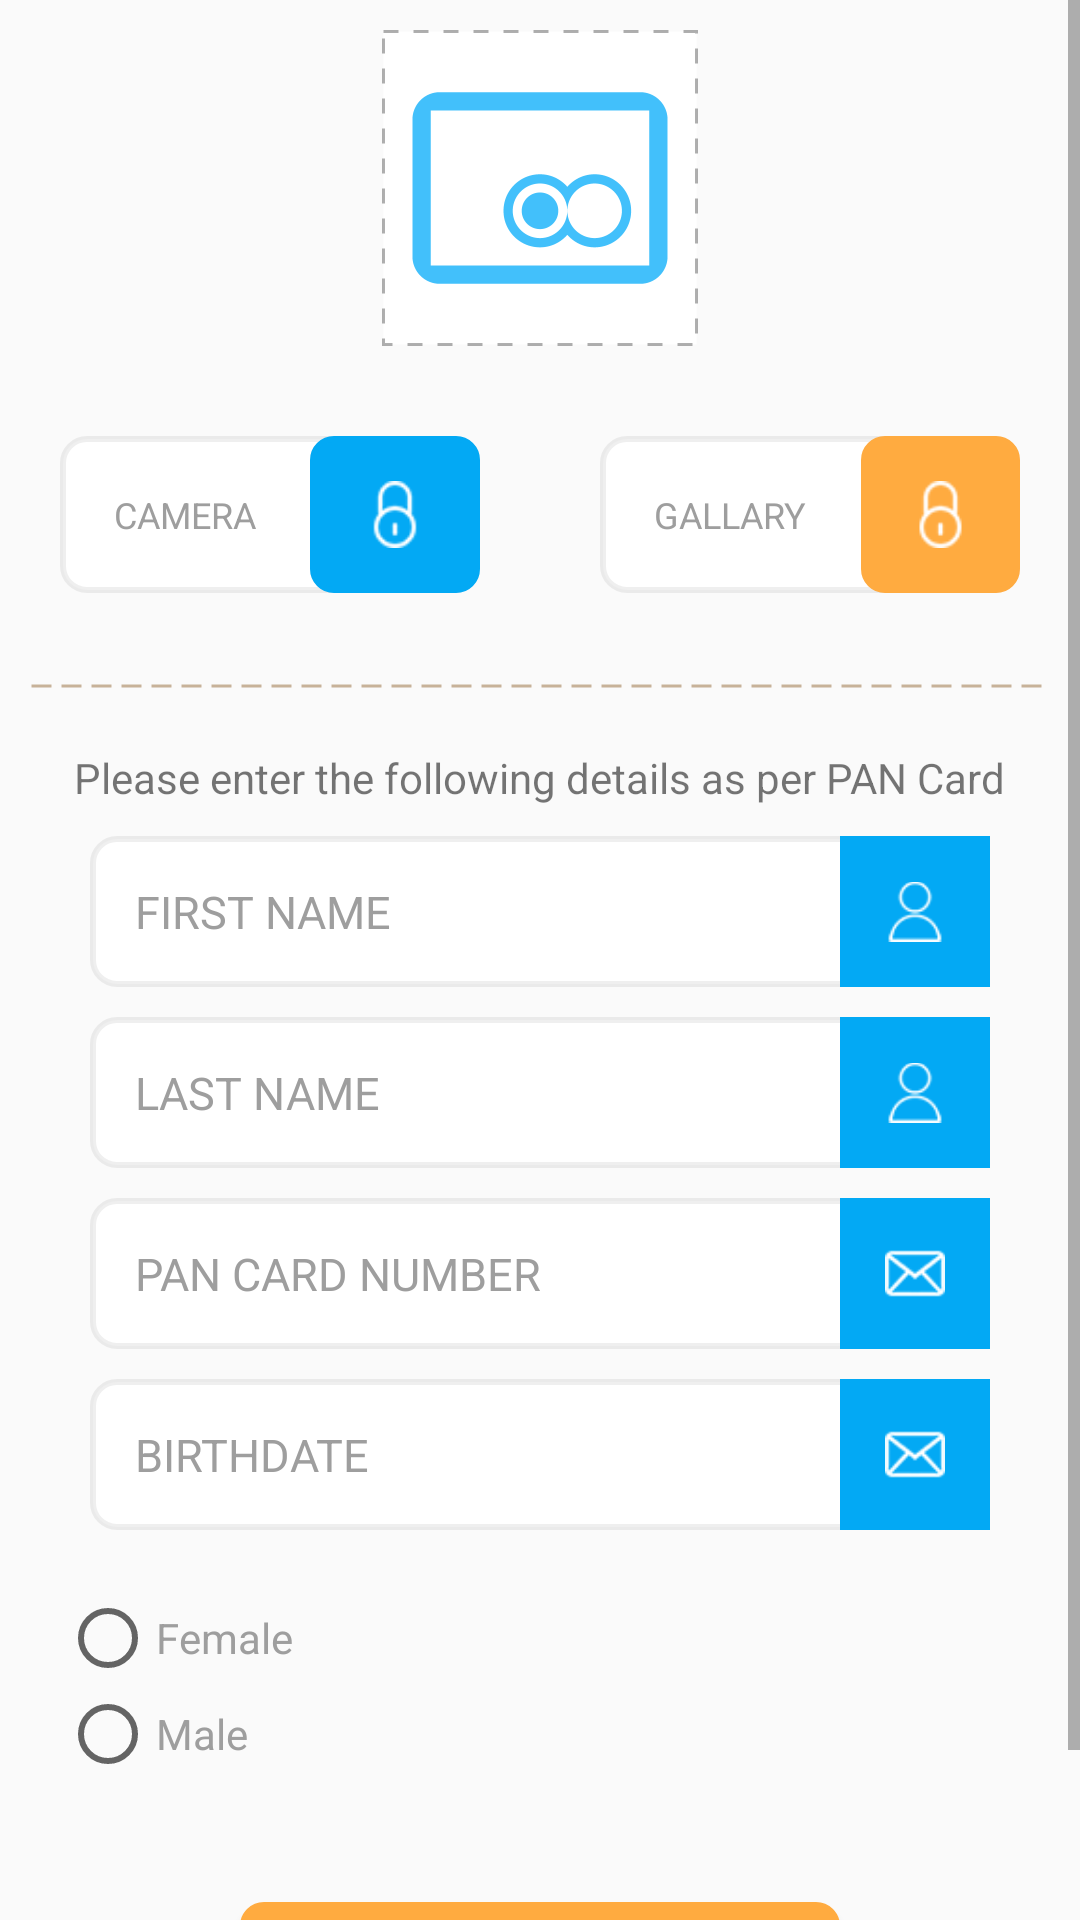

Locate icon controls on the screen. Image size 1080 × 1920, boxes as [left=x1, top=y1, right=x2, bottom=y2].
card: [left=382, top=30, right=698, bottom=346]
email: [left=840, top=1198, right=990, bottom=1349], [left=840, top=1379, right=990, bottom=1530]
fname: [left=840, top=836, right=990, bottom=987], [left=840, top=1017, right=990, bottom=1168]
password: [left=310, top=436, right=480, bottom=593], [left=861, top=436, right=1020, bottom=593]
